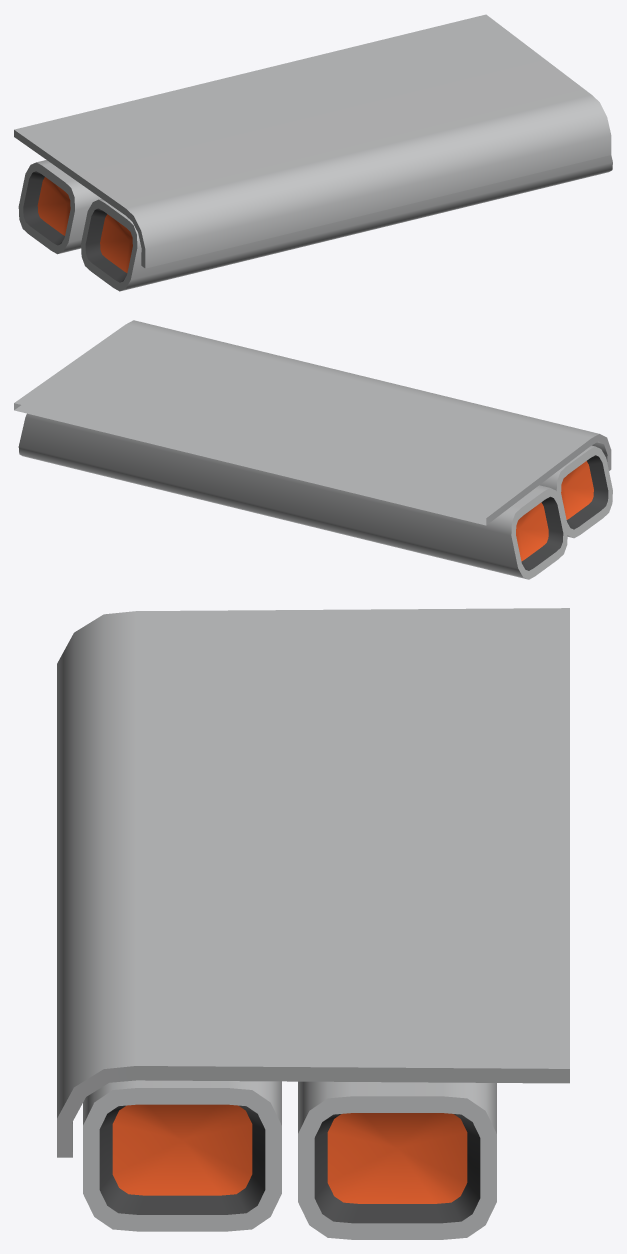
Rendered from Car_04_Turbine.fbx.
The picture shows the model from 3 angles, top to bottom: view 1: azimuth 30°, elevation 25°; view 2: azimuth 150°, elevation 25°; view 3: azimuth 270°, elevation 25°; orthographic projection. The views are drawn at different scales.
Parts seen in each view (by area): view 1: Car_04_Turbine; view 2: Car_04_Turbine; view 3: Car_04_Turbine.
Boxes of the visible parts, <box> form: Car_04_Turbine: <box>14,14,612,291</box>; Car_04_Turbine: <box>14,320,612,579</box>; Car_04_Turbine: <box>57,608,569,1239</box>.
Size of the model in its own units: 224 by 98.2 by 32.52.
